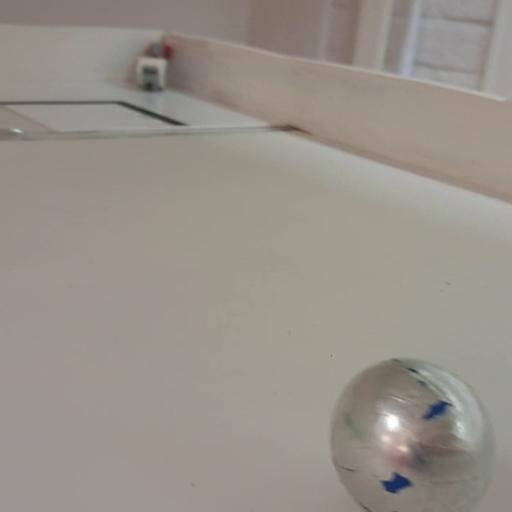alive: (326, 358, 492, 511)
